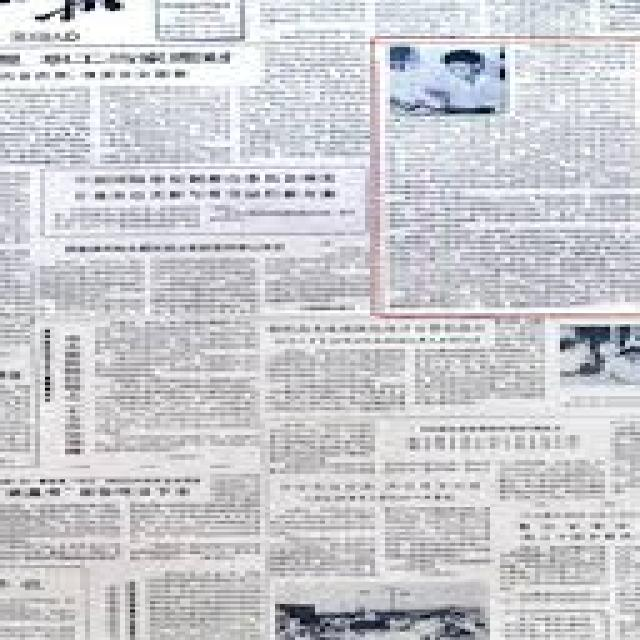organic: (27, 17, 629, 627)
